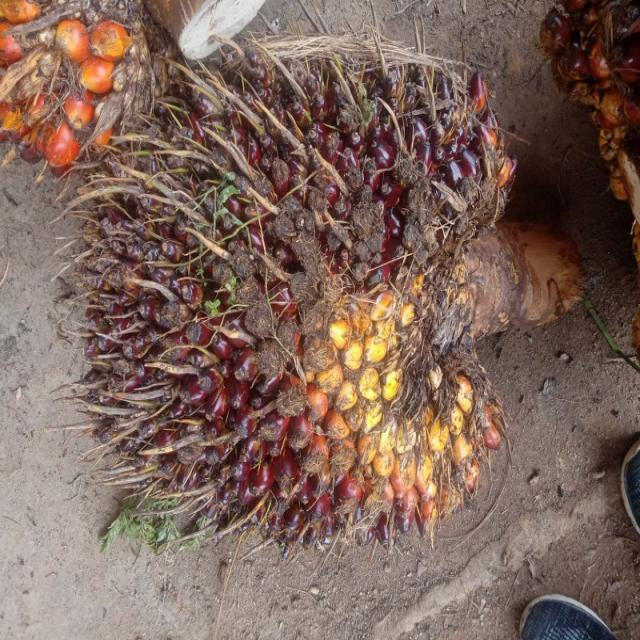fraksi 1: (64, 2, 563, 594)
